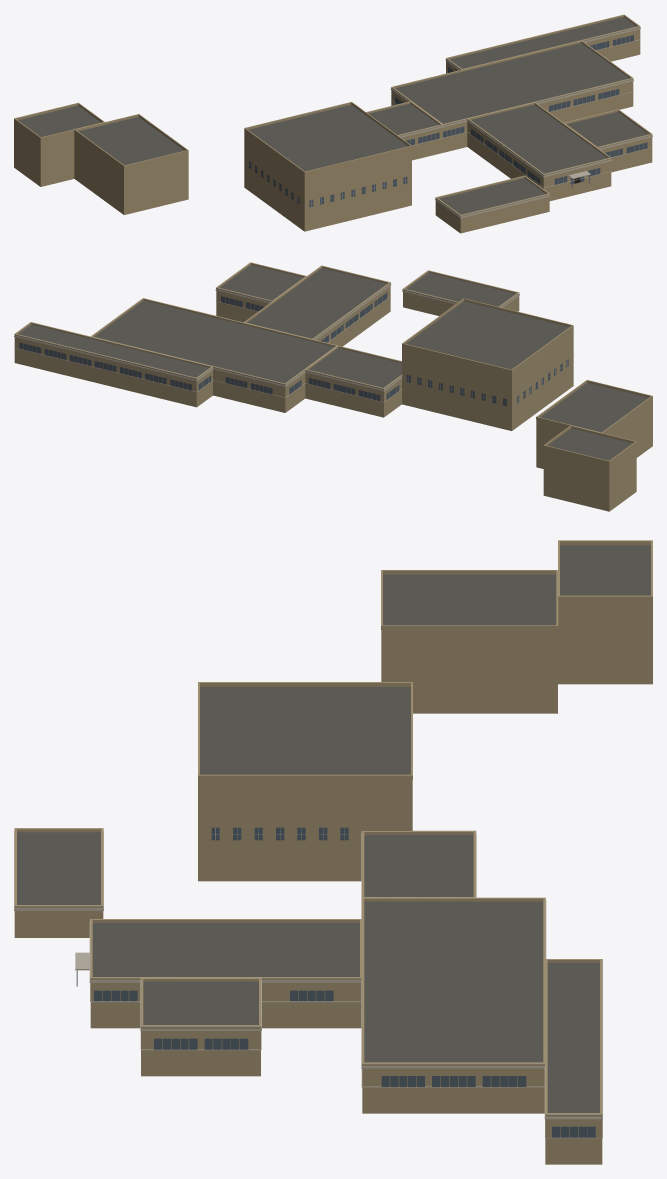
The model's file is pulaski-academy.glb.
The picture shows the model from 3 angles, top to bottom: view 1: azimuth 30°, elevation 25°; view 2: azimuth 150°, elevation 25°; view 3: azimuth 270°, elevation 25°; orthographic projection. The views are drawn at different scales.
Visible parts, largest first — view 1: pulaski_academy; view 2: pulaski_academy; view 3: pulaski_academy.
Part boxes in pixels (x1=…): pulaski_academy: x1=14, y1=14, x2=652, y2=233; pulaski_academy: x1=14, y1=262, x2=652, y2=511; pulaski_academy: x1=14, y1=540, x2=652, y2=1164.
Size of the model in its own units: 194 by 18.51 by 101.
